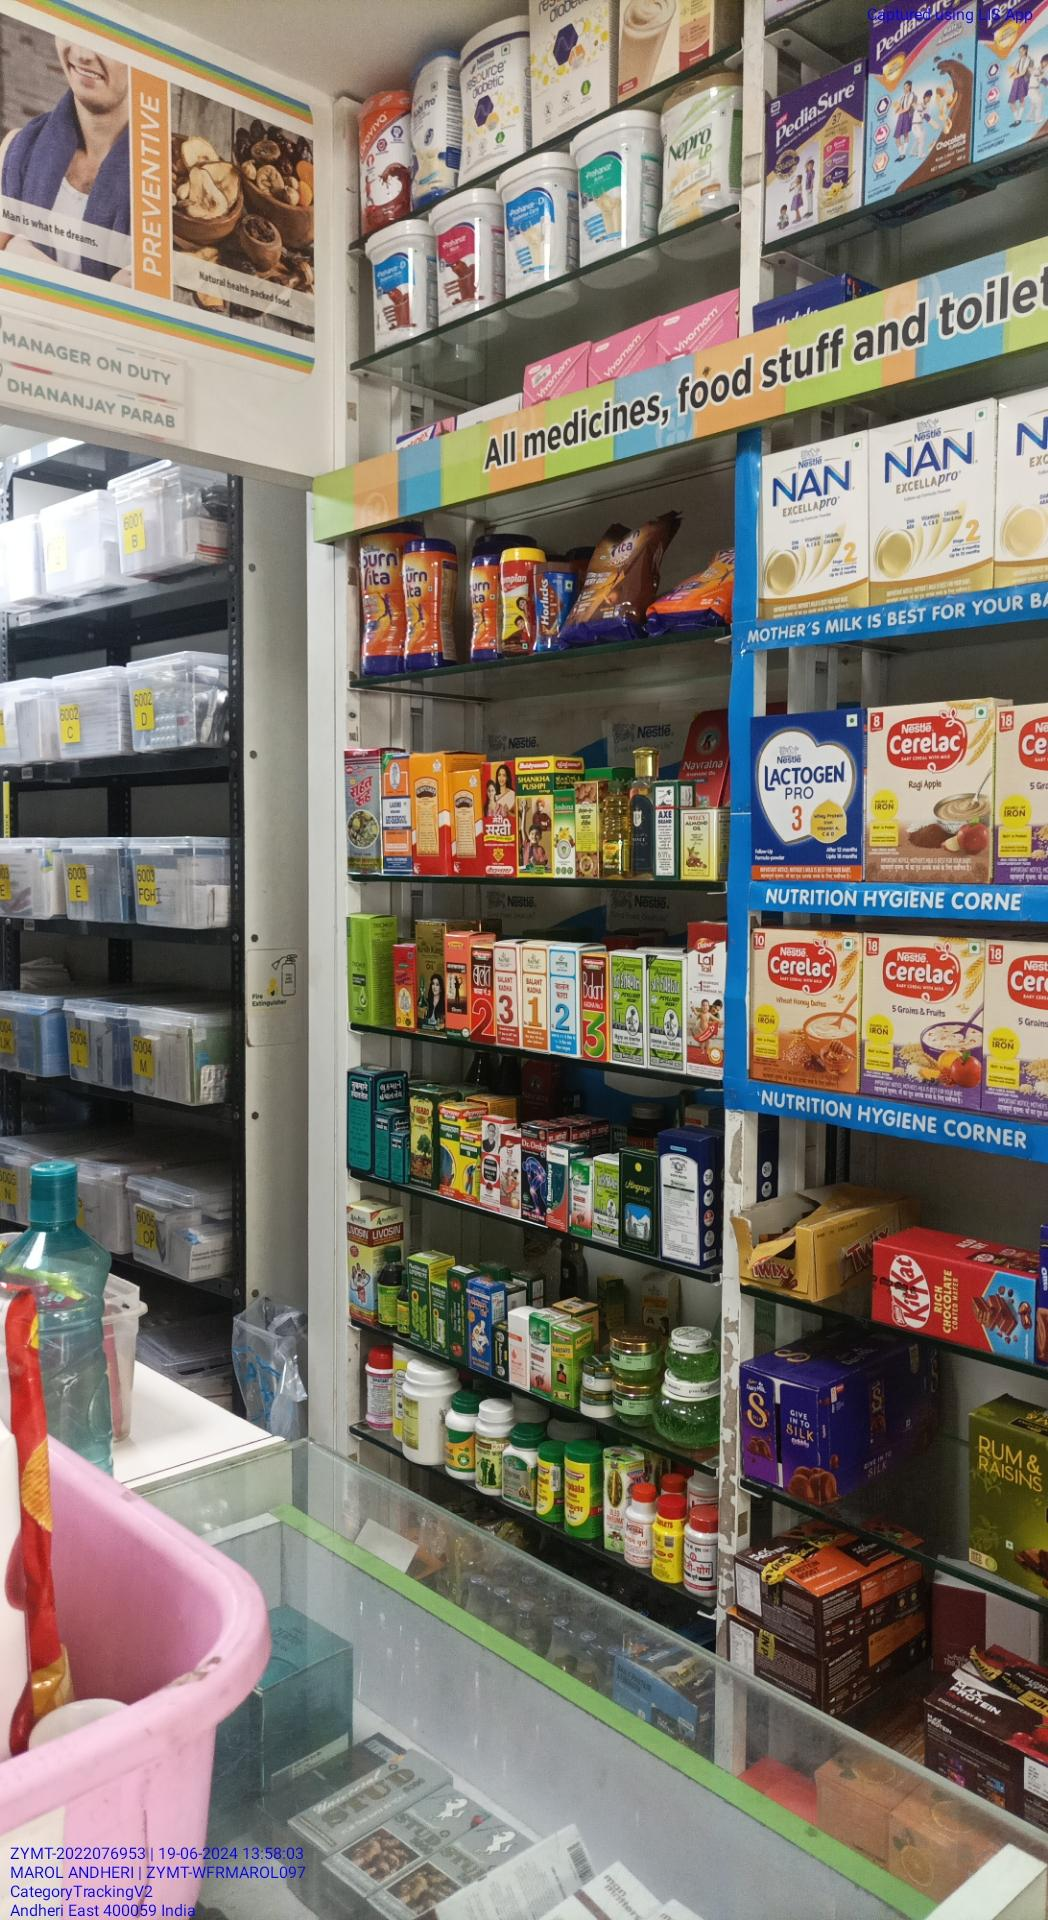BOURN_VITA_1_KG_JAR: (356, 526, 399, 676)
BOURN_VITA_200_G_JAR: (469, 555, 496, 662)
BOURN_VITA_500_G_JAR: (401, 539, 438, 674)
BOURN_VITA_FIVE_STAR_MAGIC_750_G_POUCH: (572, 517, 640, 636)
COMPLAN_CHOCOLATE_200_GMS_JAR: (499, 548, 534, 658)
HORLICK_CHOCOLATE_200_G_JAR: (533, 561, 564, 655)
